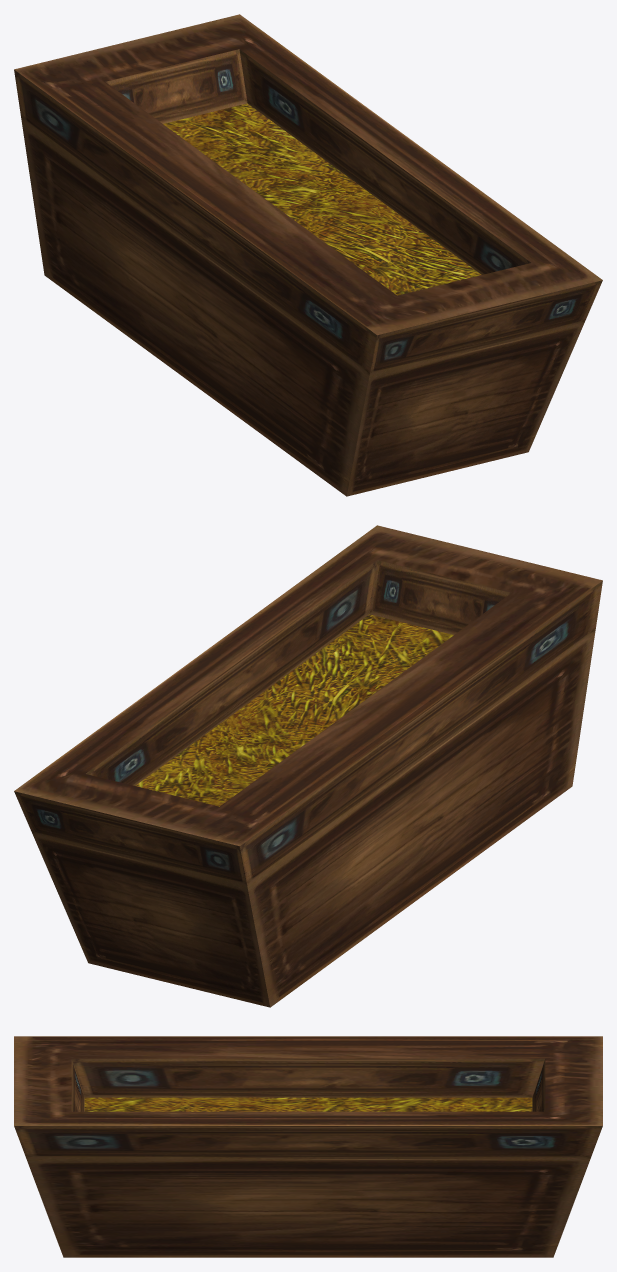
File: stormwindwindowplanterempty.obj
3 views of the same model, one above another, from view 1: azimuth 30°, elevation 25°; view 2: azimuth 150°, elevation 25°; view 3: azimuth 270°, elevation 25° (orthographic). The views are drawn at different scales.
Visible parts, largest first — view 1: Geoset0, Geoset1; view 2: Geoset0, Geoset1; view 3: Geoset0, Geoset1.
Boxes of the visible parts, x1=… form: Geoset0: x1=14, y1=14, x2=602, y2=496; Geoset1: x1=163, y1=103, x2=481, y2=295; Geoset0: x1=14, y1=525, x2=602, y2=1007; Geoset1: x1=135, y1=614, x2=453, y2=806; Geoset0: x1=14, y1=1036, x2=602, y2=1257; Geoset1: x1=84, y1=1097, x2=532, y2=1111.
Bounding box in the file's own units: 2.02 × 1.57 × 5.62.
2 materials, 2 textured.
